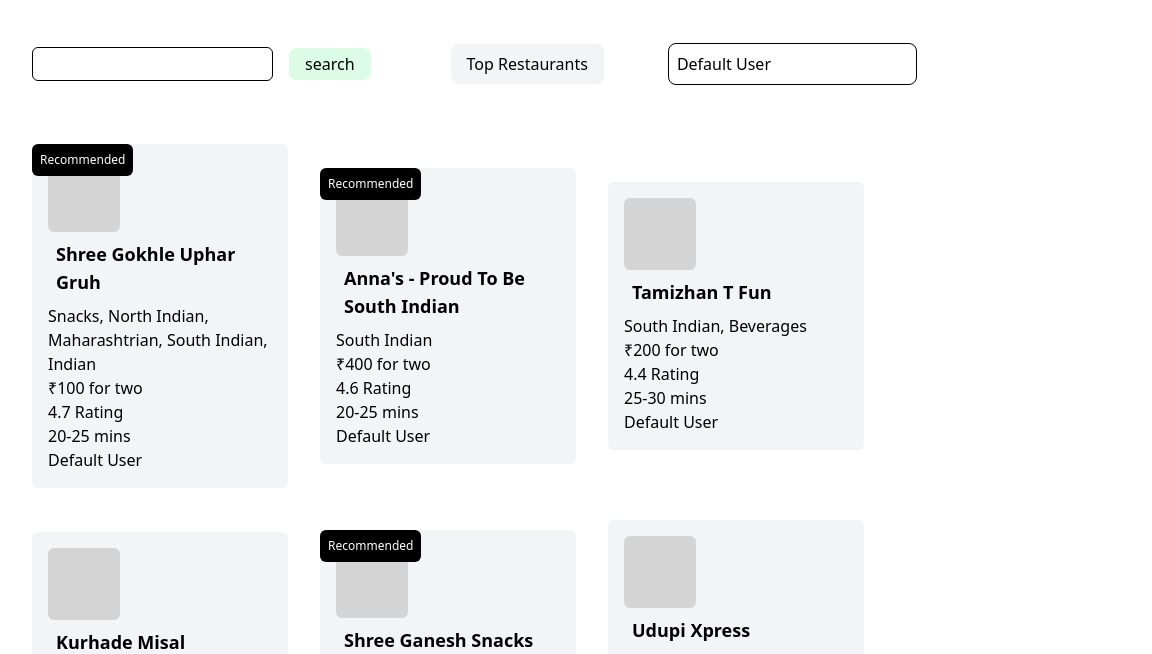
Should render the Body Component with Search
Expected: the button "search" is shown, [289,48,370,80]
Type "south" into the field with test id "searchInput" at (152, 64), box [32,47,273,81]
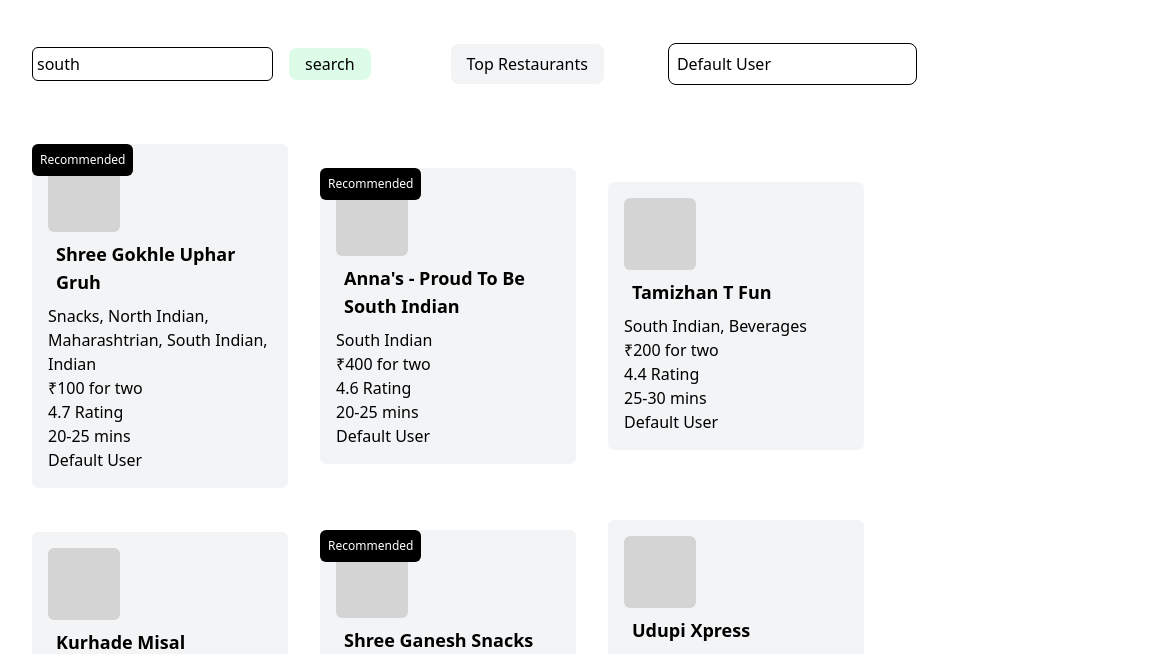
Click the button "search" at (330, 64), box [289,48,370,80]
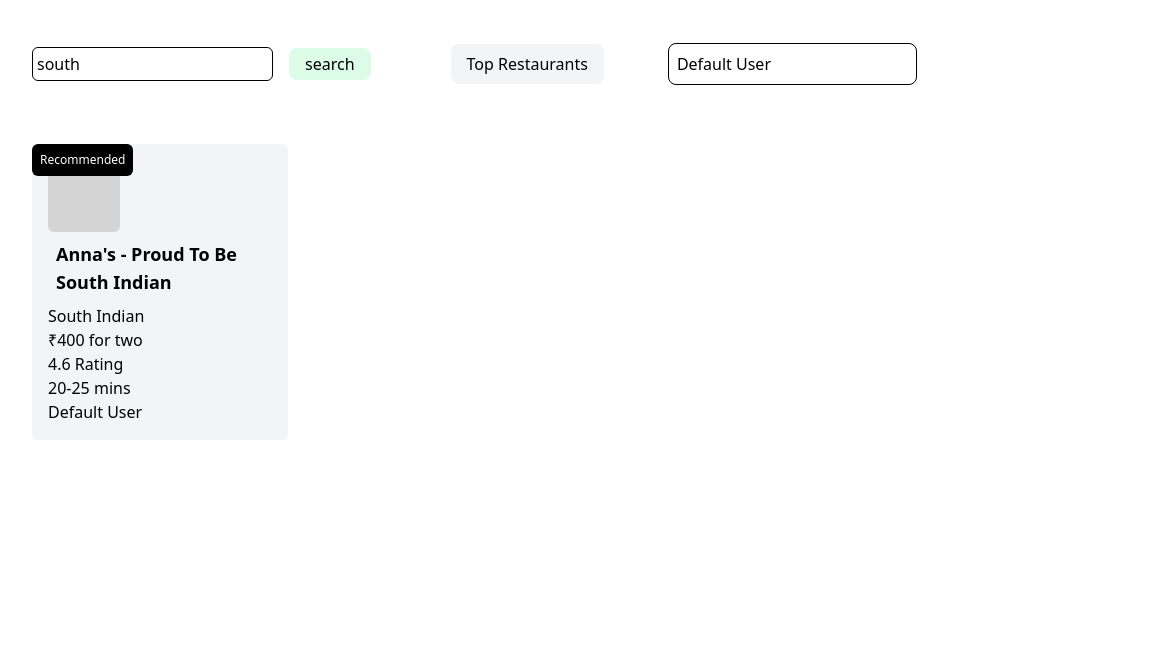
Expected: the number of elements with test id "resCard" is 1, [32,144,288,440]
